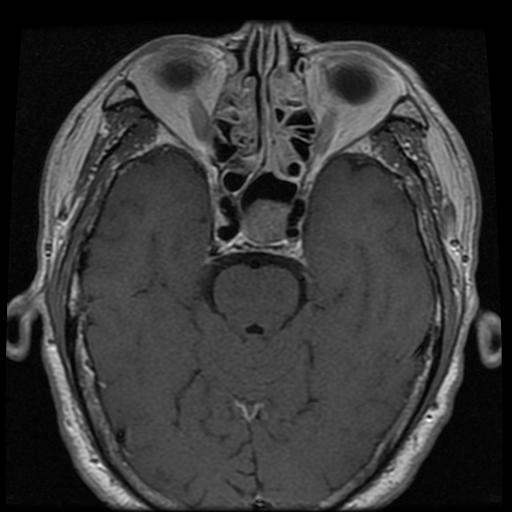Tumour-Pituitary: (204, 194, 312, 262)
